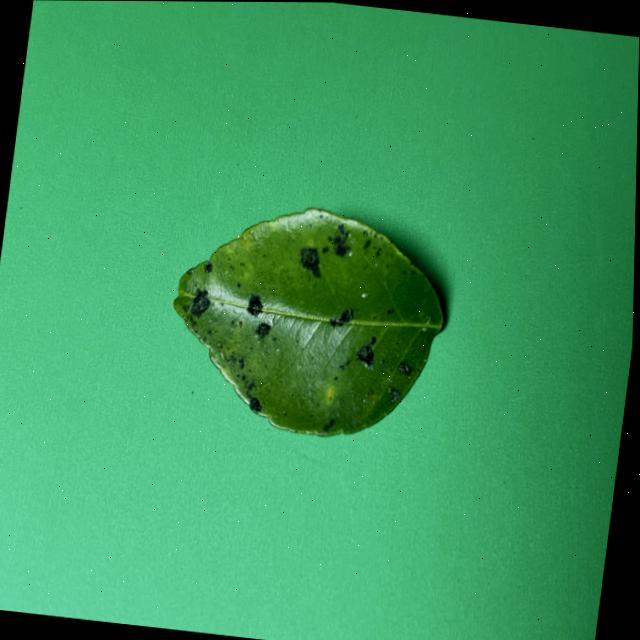sooty_mold: (173, 208, 443, 436)
